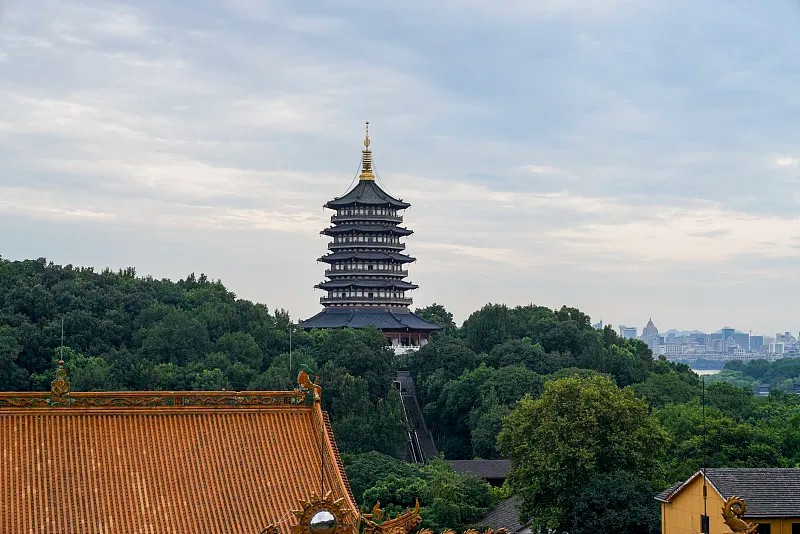Leifeng: (292, 120, 443, 357)
